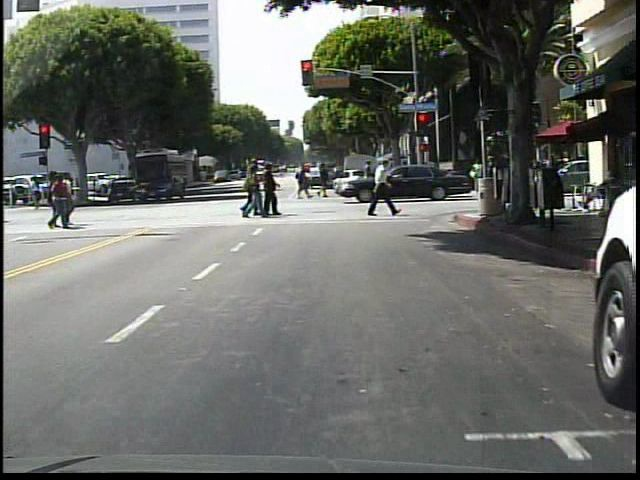person: (361, 157, 404, 223)
